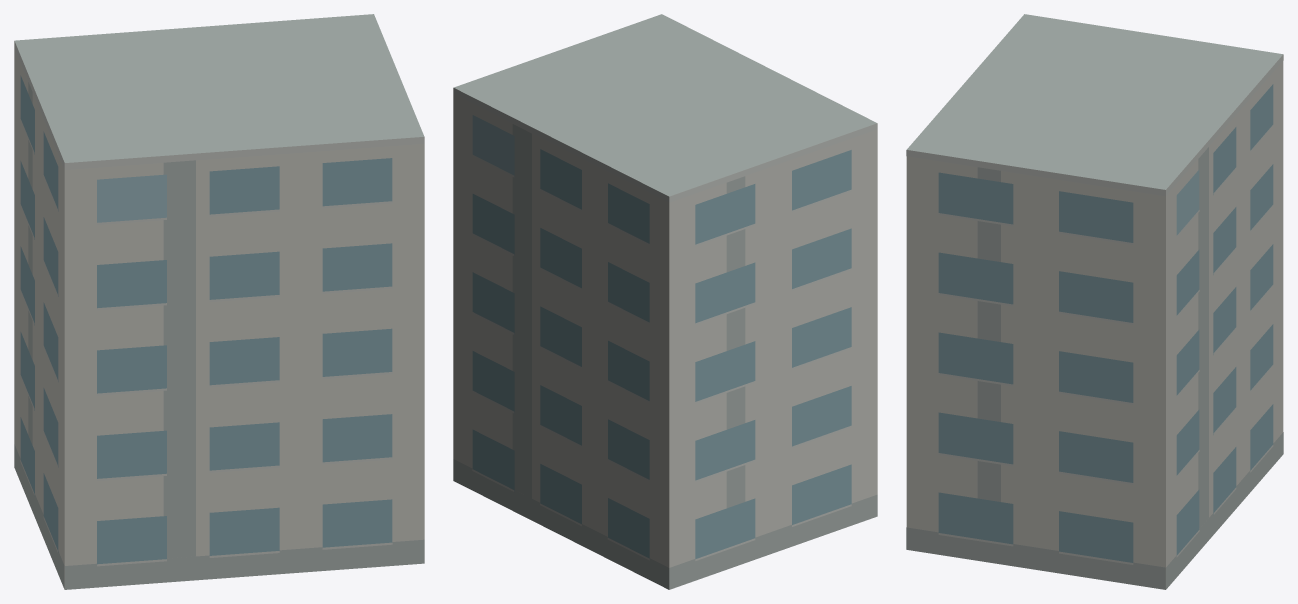
Rendered from residential-00eb0b5d-0f50-4f1e-ba48-30a617b045ff.glb.
3 views of the same model, side by side, from view 1: azimuth 30°, elevation 25°; view 2: azimuth 150°, elevation 25°; view 3: azimuth 270°, elevation 25° (orthographic). The views are drawn at different scales.
Visible parts, largest first — view 1: residential-00eb0b5d-0f50-4f1e-ba48-30a617b045ff.tmp; view 2: residential-00eb0b5d-0f50-4f1e-ba48-30a617b045ff.tmp; view 3: residential-00eb0b5d-0f50-4f1e-ba48-30a617b045ff.tmp.
Part boxes in pixels (box(x1,y1,x2,y2)): residential-00eb0b5d-0f50-4f1e-ba48-30a617b045ff.tmp: box(14, 14, 424, 589); residential-00eb0b5d-0f50-4f1e-ba48-30a617b045ff.tmp: box(453, 14, 877, 589); residential-00eb0b5d-0f50-4f1e-ba48-30a617b045ff.tmp: box(906, 14, 1283, 589).
Bounding box in the file's own units: 14.4 × 15.25 × 13.04.
